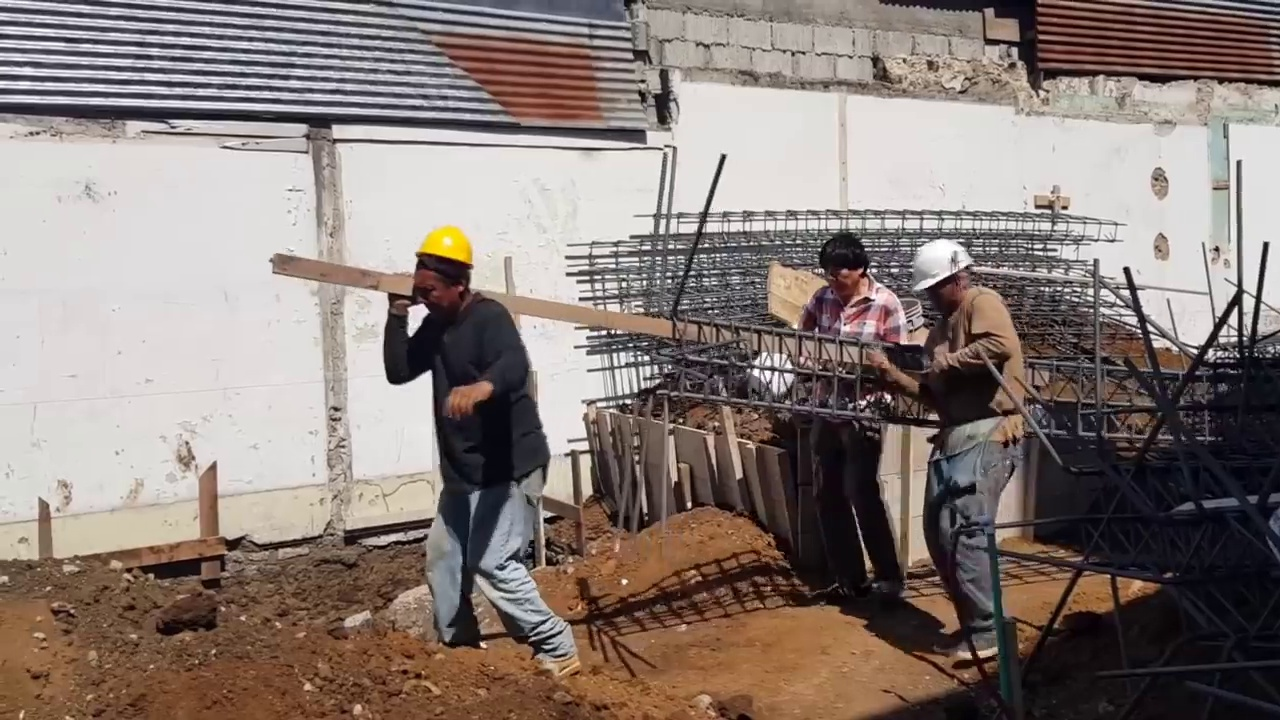helmet: (915, 237, 974, 302), (408, 226, 478, 272)
helmet-off: (822, 235, 872, 300)
helmet-on: (410, 230, 477, 319), (915, 237, 985, 315)
person: (386, 223, 578, 687), (874, 237, 1041, 660), (784, 243, 909, 612)
